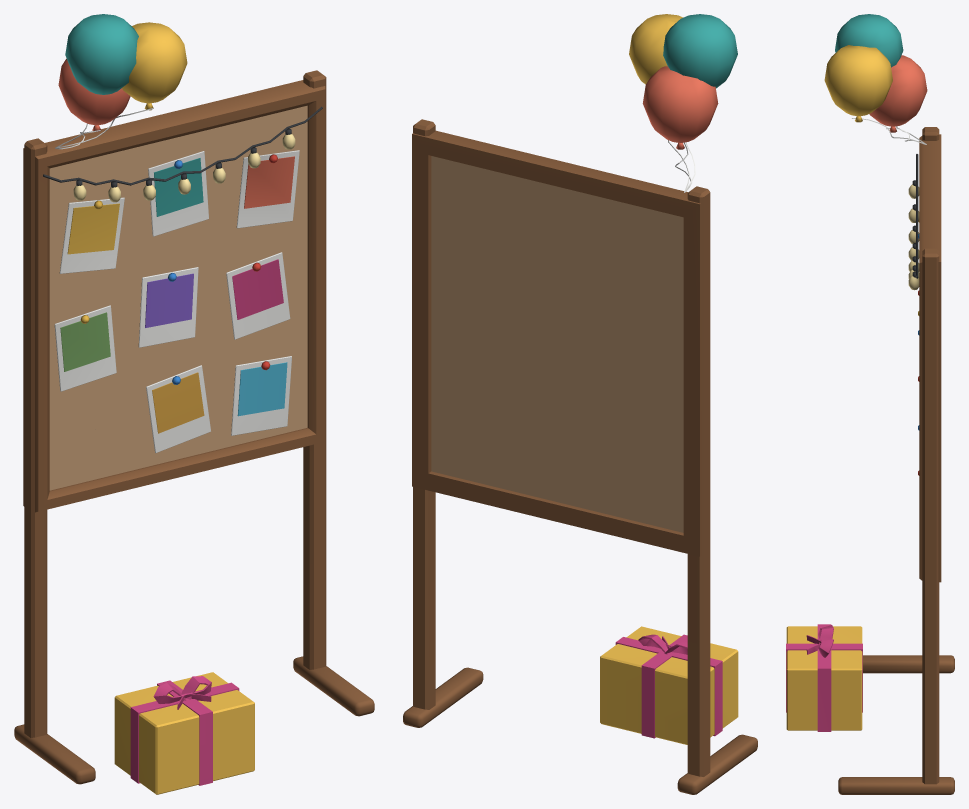
File: photoWall.glb
3 views of the same model, side by side, from view 1: azimuth 30°, elevation 25°; view 2: azimuth 150°, elevation 25°; view 3: azimuth 270°, elevation 25° (orthographic). The views are drawn at different scales.
Visible parts, largest first — view 1: body; view 2: body; view 3: body.
Part boxes in pixels (box(x1,y1,x2,y2)): body: box(14, 14, 374, 794); body: box(403, 14, 757, 794); body: box(786, 14, 954, 794).
Size of the model in its own units: 0.9 by 2.14 by 0.492.
